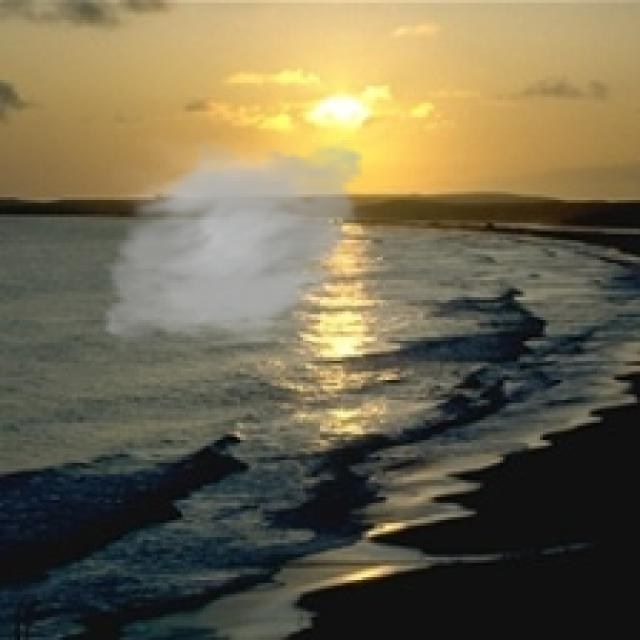smoke: (92, 128, 374, 363)
